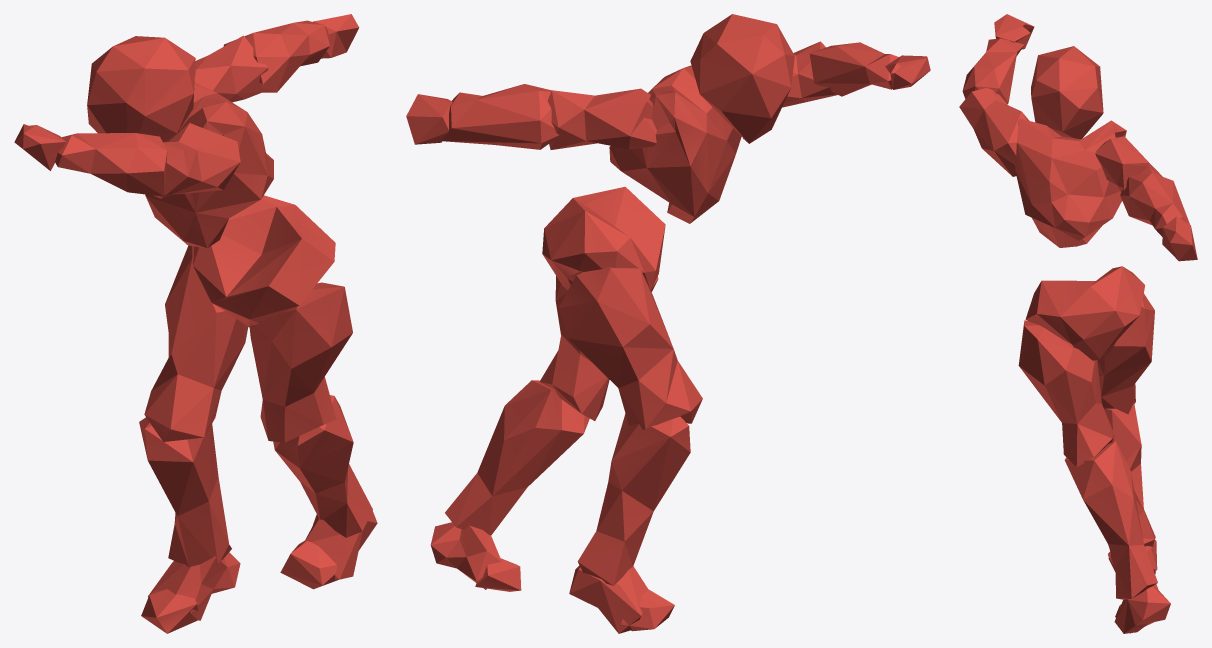
Rendered from 2dancer0191.obj.
3 renders of one model, left to right at view 1: azimuth 30°, elevation 25°; view 2: azimuth 150°, elevation 25°; view 3: azimuth 270°, elevation 25°, orthographic. The views are drawn at different scales.
Visible parts, largest first — view 1: Beta_Surface; view 2: Beta_Surface; view 3: Beta_Surface.
Part boxes in pixels (x1,y1,x2,y2): Beta_Surface: [14, 14, 377, 633]; Beta_Surface: [406, 14, 930, 633]; Beta_Surface: [959, 14, 1197, 633].
Size of the model in its own units: 1.24 by 1.7 by 0.7418.
